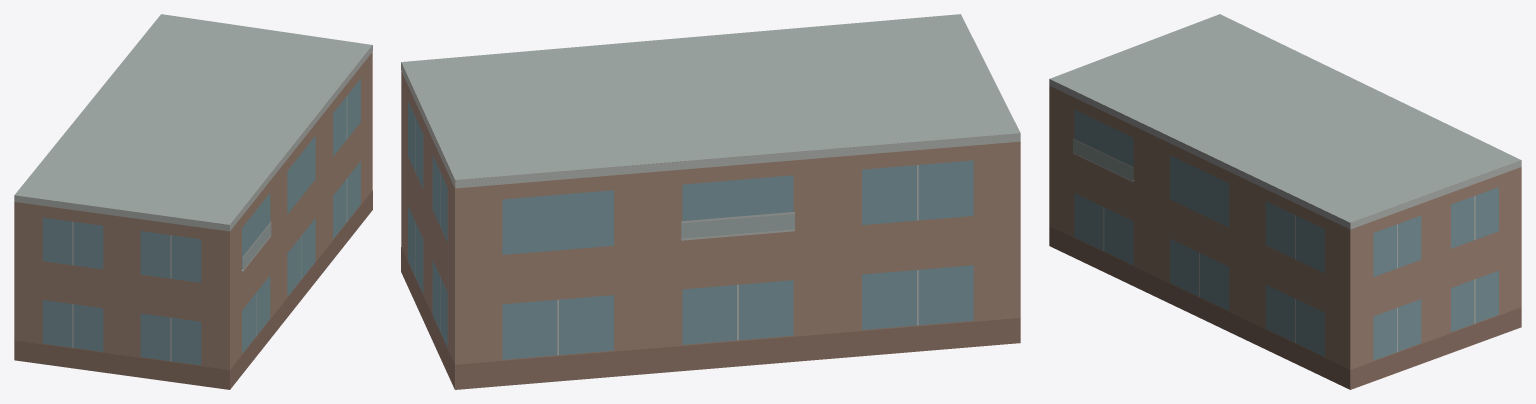
Rendered from survey-upis-32630909.glb.
3 views of the same model, side by side, from view 1: azimuth 30°, elevation 25°; view 2: azimuth 150°, elevation 25°; view 3: azimuth 270°, elevation 25° (orthographic). The views are drawn at different scales.
Parts seen in each view (by area): view 1: survey-upis-32630909.tmp; view 2: survey-upis-32630909.tmp; view 3: survey-upis-32630909.tmp.
Part boxes in pixels (<box>): survey-upis-32630909.tmp: <box>14,14,372,389</box>; survey-upis-32630909.tmp: <box>401,14,1020,389</box>; survey-upis-32630909.tmp: <box>1049,14,1521,389</box>.
Size of the model in its own units: 16.37 by 6.1 by 15.64.
